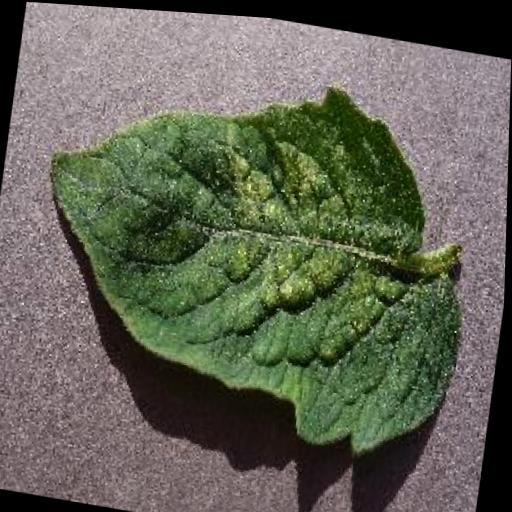Spider Mites: (14, 40, 492, 463)
